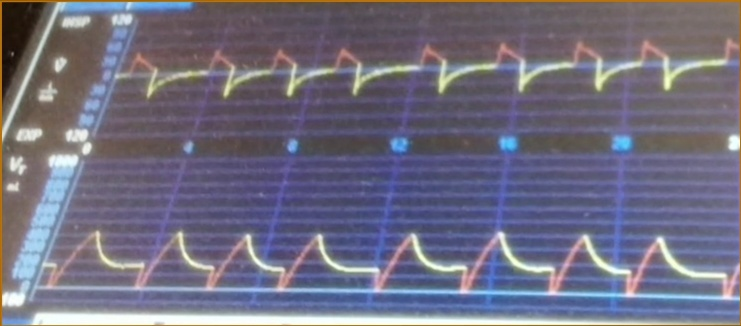Flow: (127, 24, 741, 122)
Leakage Volume: (67, 177, 741, 311)
